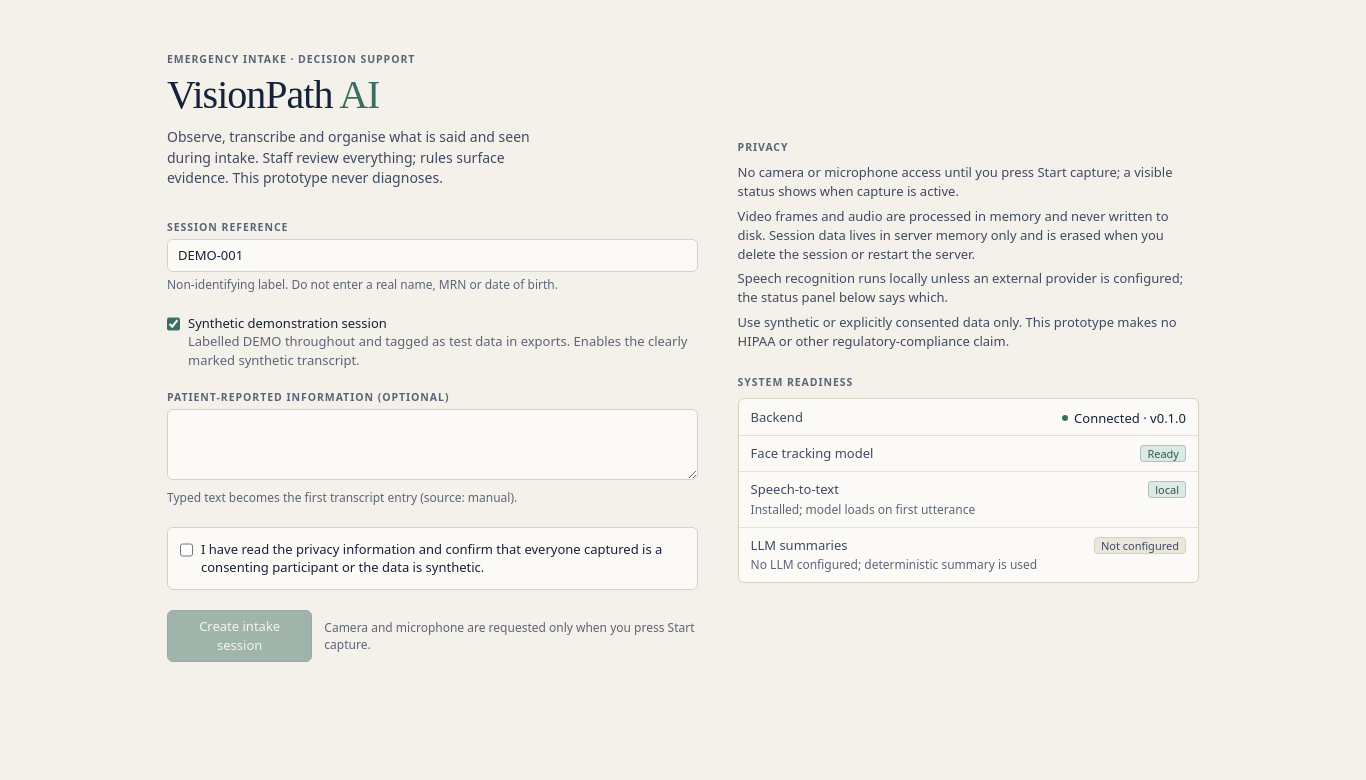
Test: device permissions › camera permission denied: explicit message, microphone still works, manual intake remains usable
The width and height of the screenshot is (1366, 780).
expect the text "Connected · v0.1.0" is shown: met, box top-left (1062, 409), bottom-right (1186, 427)
Click the checkbox labelled "I have read the privacy information" at (186, 550), box top-left (180, 542), bottom-right (193, 558)
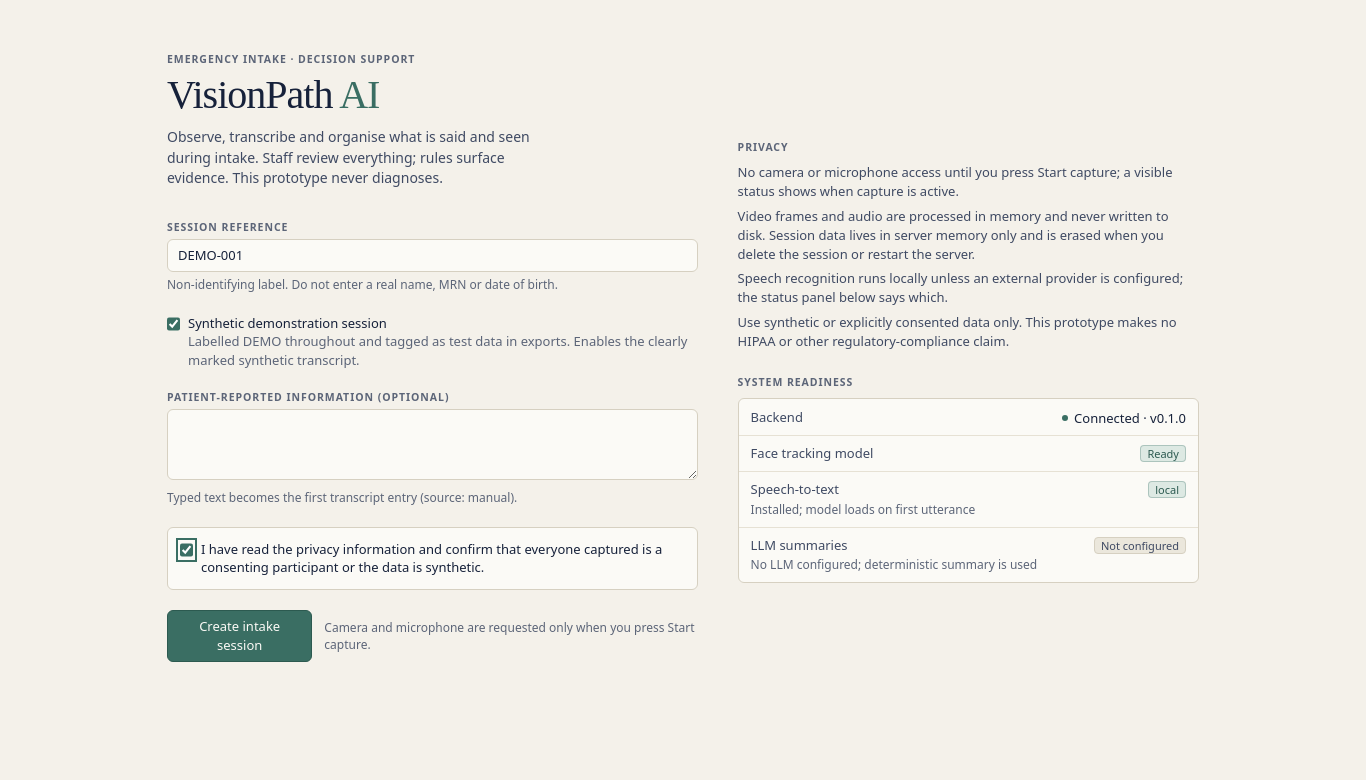
Click the button "Create intake session" at (240, 636), box top-left (167, 610), bottom-right (312, 662)
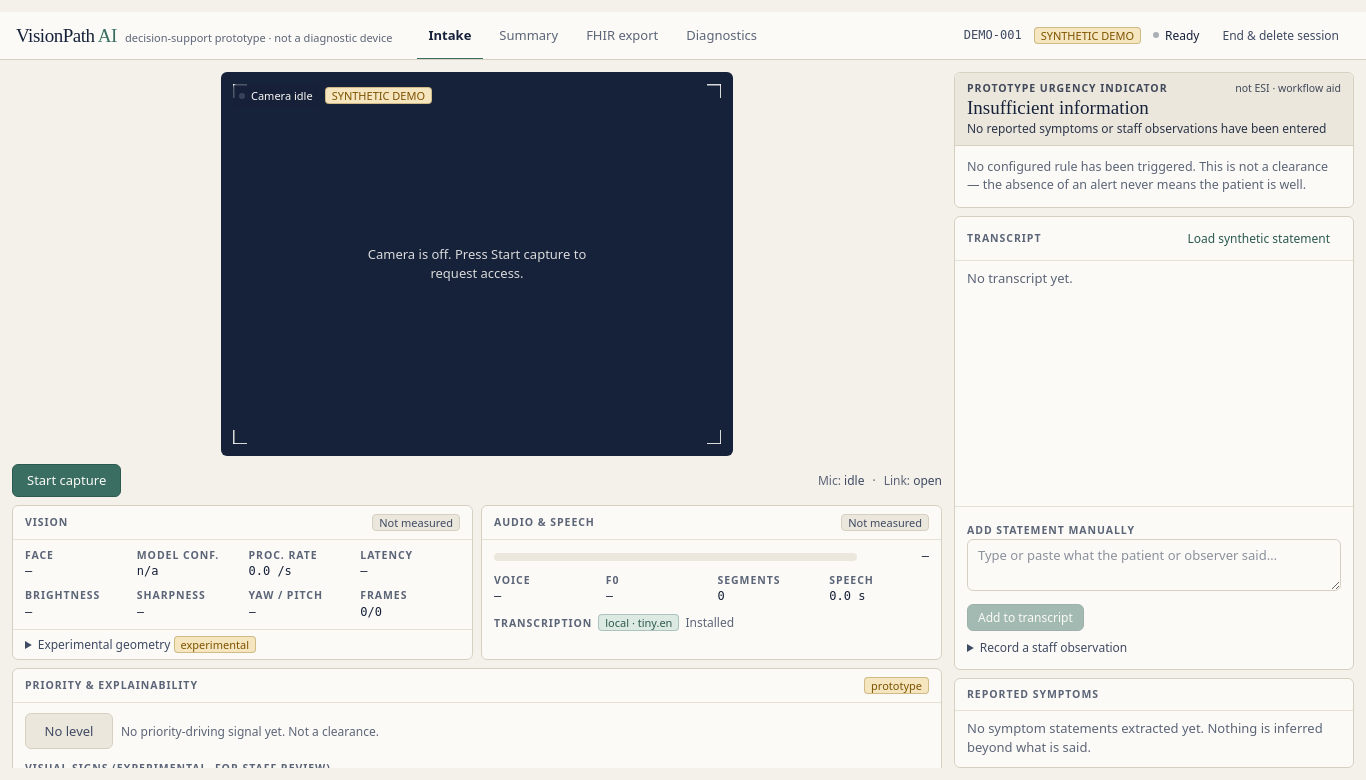
expect the text "DEMO-001" is shown: met, box top-left (964, 27), bottom-right (1022, 44)
expect the text with test id "ws-status" reads "open": met, box top-left (913, 472), bottom-right (942, 489)
Click the button "Start capture" at (67, 480), box top-left (12, 464), bottom-right (121, 497)
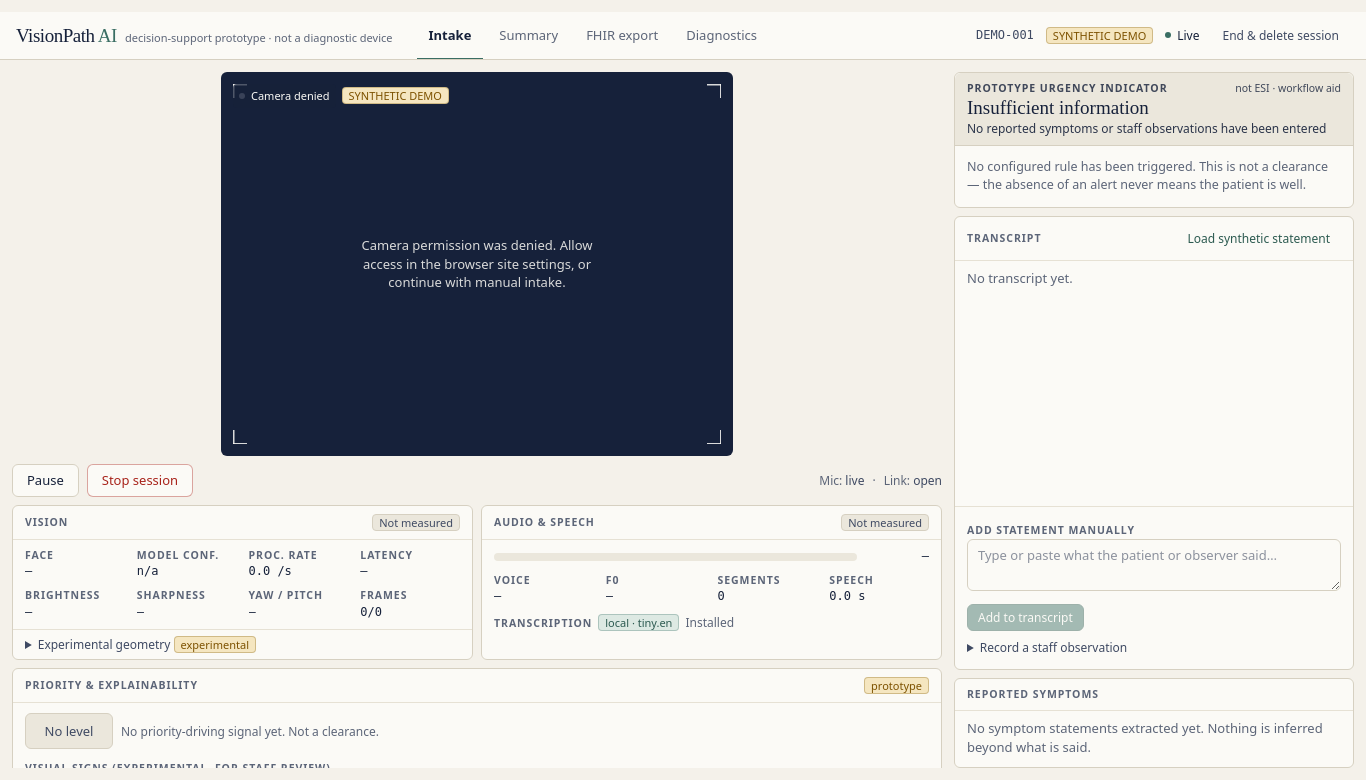
expect the text "Camera permission was denied" is shown: met, box top-left (362, 236), bottom-right (592, 291)
expect the text with test id "mic-status" reads "live": met, box top-left (845, 472), bottom-right (864, 489)
Type "I have chest pain" into the text box labelled "Add statement manually" at (1154, 565), box top-left (967, 539), bottom-right (1341, 591)
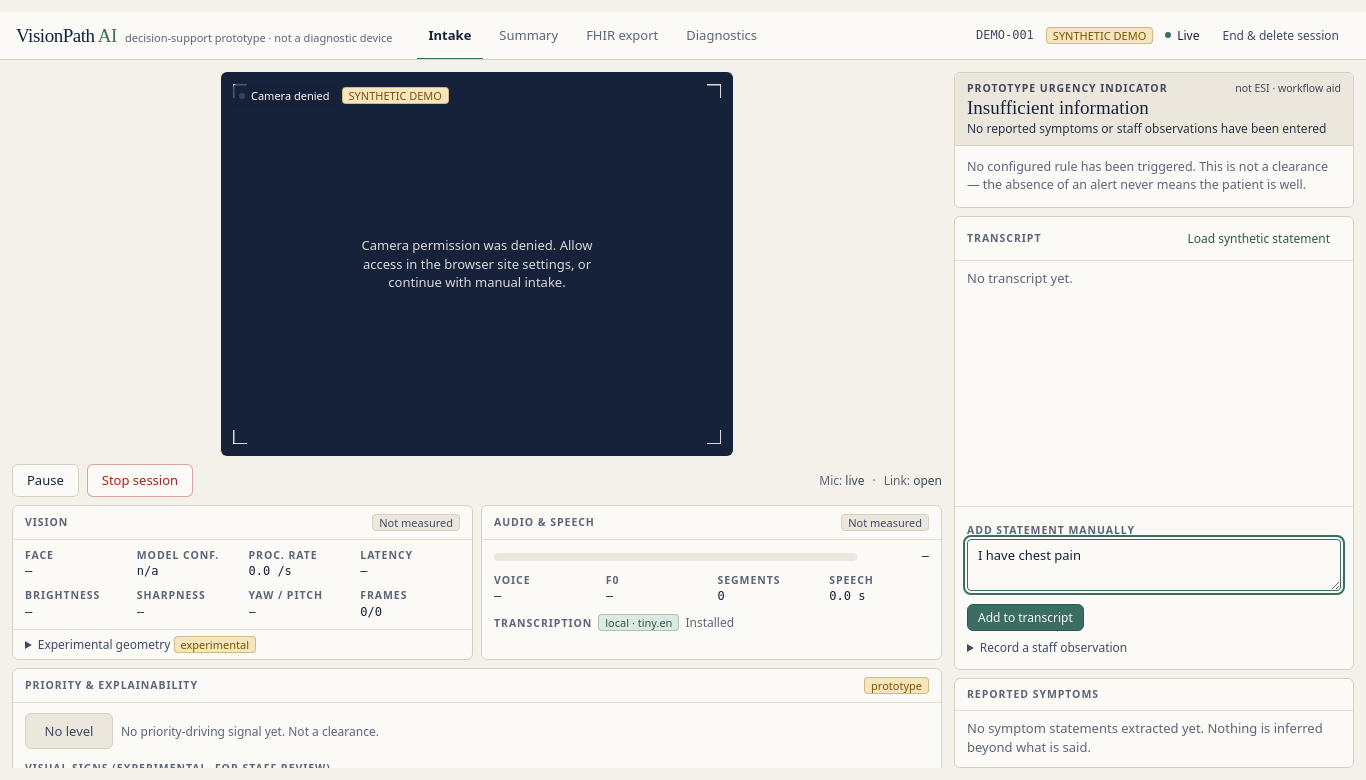
Click the button "Add to transcript" at (1025, 618), box top-left (967, 604), bottom-right (1084, 631)
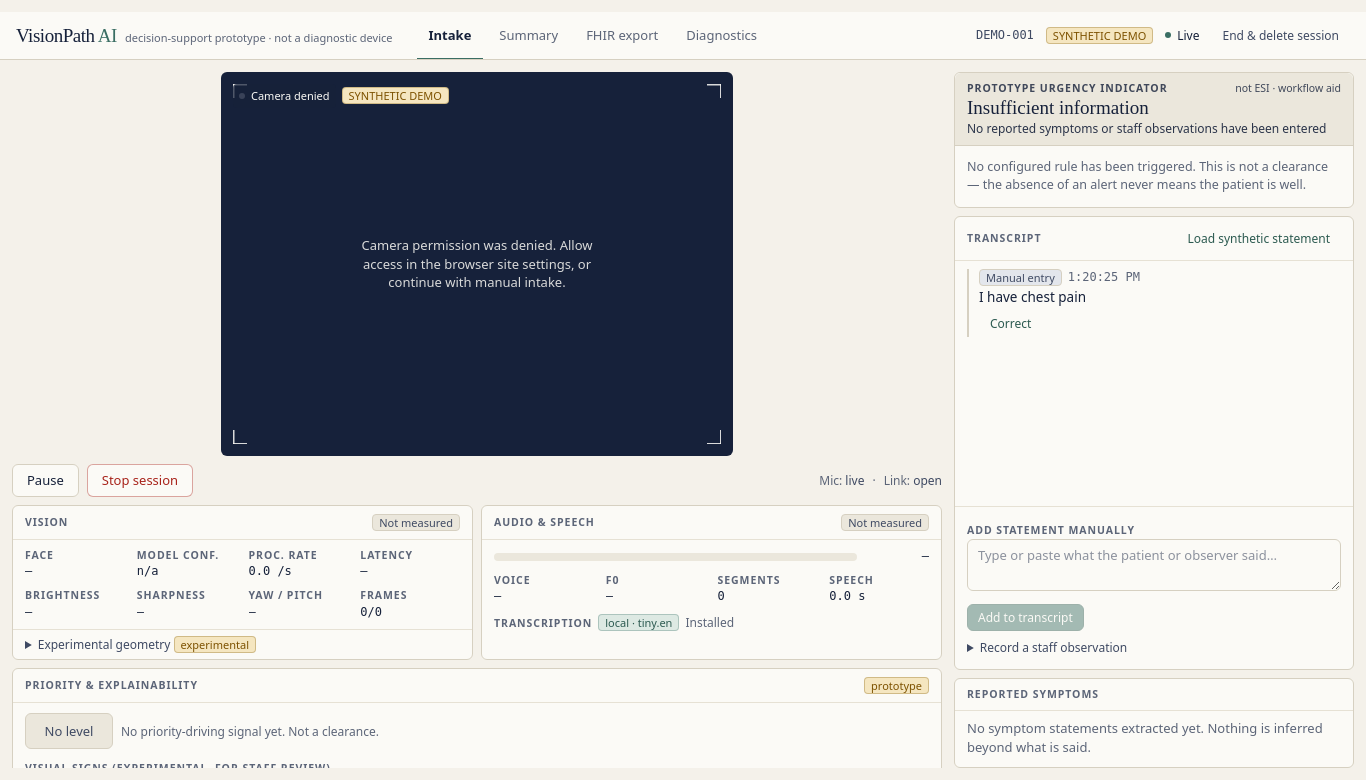
expect the element with test id "segment" shows "I have chest pain": met, box top-left (979, 288), bottom-right (1086, 306)
